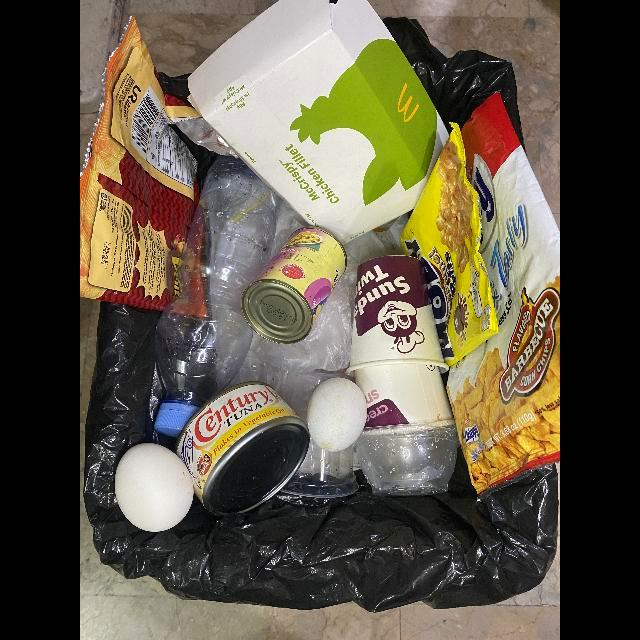aluminum: (401, 127, 499, 373), (173, 383, 311, 521), (242, 227, 347, 346)
cardboard: (187, 0, 449, 243), (348, 256, 446, 367), (355, 364, 452, 429)
food_wrapper: (445, 88, 559, 491), (80, 17, 208, 320)
plastic_bottle: (155, 155, 283, 440)
plastic_container: (282, 372, 367, 499), (358, 425, 459, 495)
